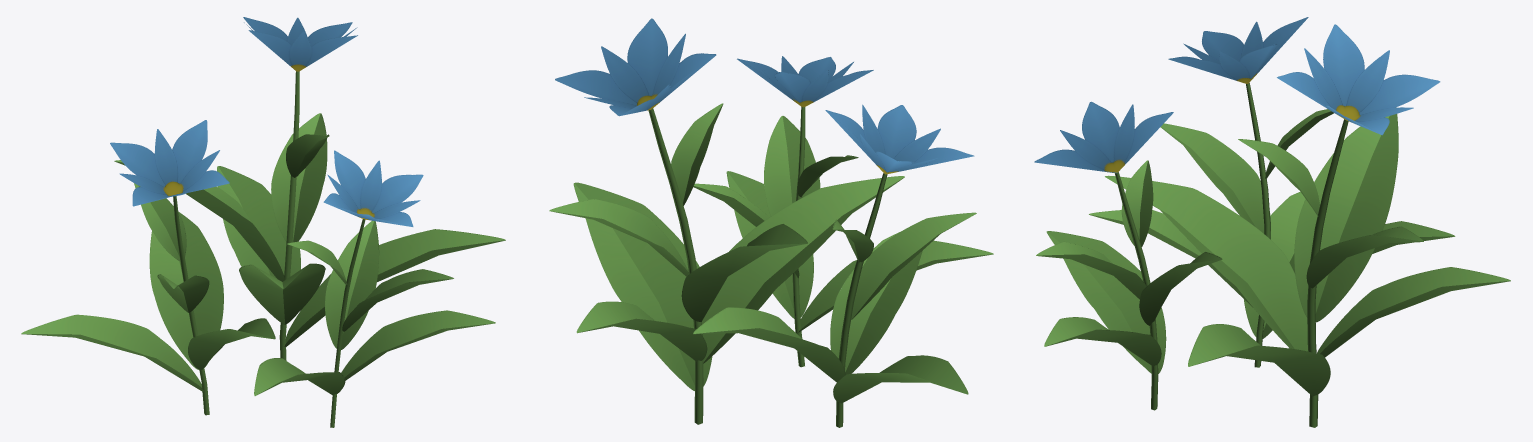
Rendered from Flowers_4.fbx.
3 views of the same model, side by side, from view 1: azimuth 30°, elevation 25°; view 2: azimuth 150°, elevation 25°; view 3: azimuth 270°, elevation 25° (orthographic). The views are drawn at different scales.
Visible parts, largest first — view 1: Flowers_4_LOD0; view 2: Flowers_4_LOD0; view 3: Flowers_4_LOD0.
Boxes of the visible parts, x1,y1,x2,y2 form: Flowers_4_LOD0: [21, 17, 505, 427]; Flowers_4_LOD0: [549, 18, 993, 427]; Flowers_4_LOD0: [1034, 17, 1510, 427].
Size of what is drawn, in the model's own units: 57.7 by 44.36 by 50.13.
